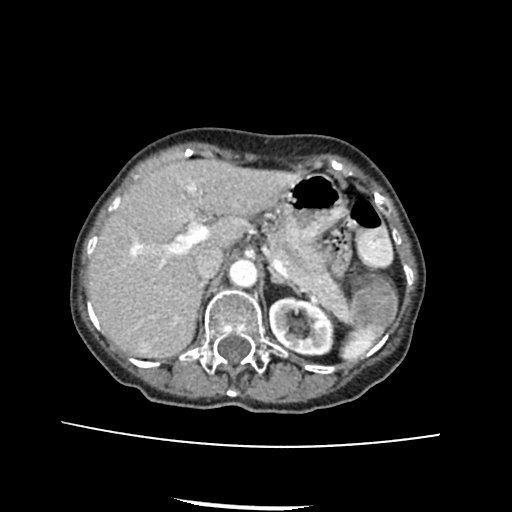aorta: (228, 258, 258, 288)
